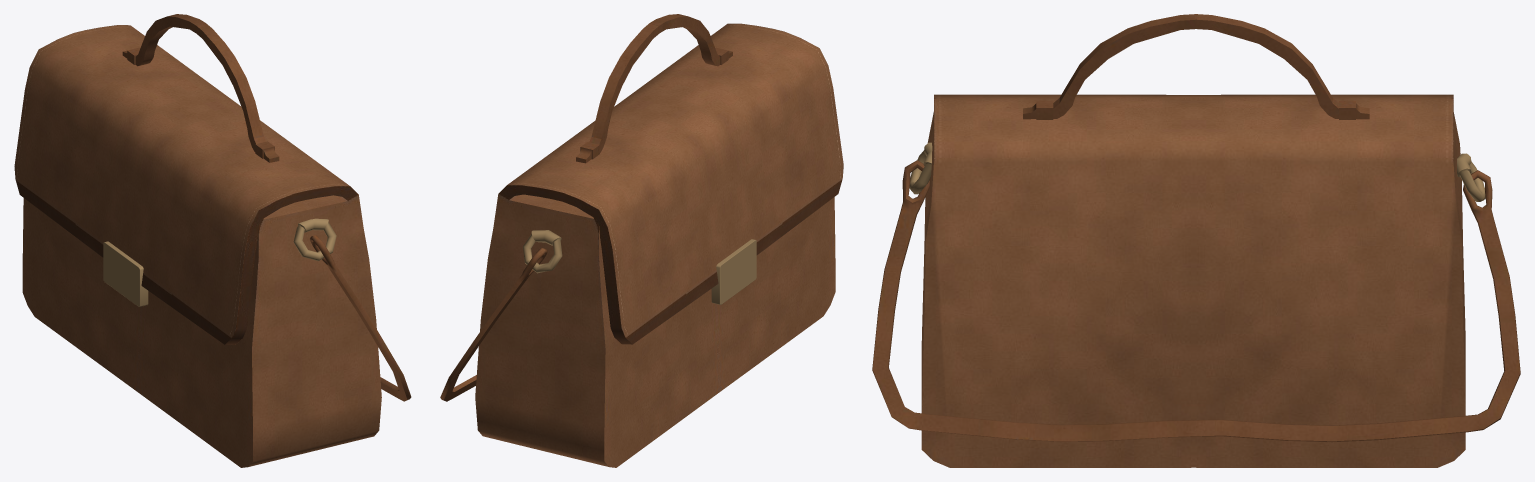
The model's file is cartera.fbx.
3 renders of one model, left to right at view 1: azimuth 30°, elevation 25°; view 2: azimuth 150°, elevation 25°; view 3: azimuth 270°, elevation 25°, orthographic. The views are drawn at different scales.
Parts seen in each view (by area): view 1: cuerpo, parte_arriba, angel_correa, cierre; view 2: cuerpo, parte_arriba, angel_correa, cierre; view 3: cuerpo, angel_correa, parte_arriba.
Part boxes in pixels (bbox=[...]): cuerpo: bbox=[14, 25, 381, 467]; parte_arriba: bbox=[122, 14, 279, 162]; angel_correa: bbox=[293, 218, 411, 401]; cierre: bbox=[103, 241, 148, 306]; cuerpo: bbox=[475, 23, 843, 467]; parte_arriba: bbox=[576, 14, 732, 163]; angel_correa: bbox=[440, 230, 562, 401]; cierre: bbox=[711, 239, 756, 304]; cuerpo: bbox=[921, 94, 1465, 467]; angel_correa: bbox=[872, 142, 1520, 442]; parte_arriba: bbox=[1023, 14, 1369, 119].
Size of the model in its own units: 31 by 61.04 by 86.37.
2 materials, 1 textured.
